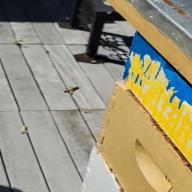Bee: (60, 82, 82, 96)
